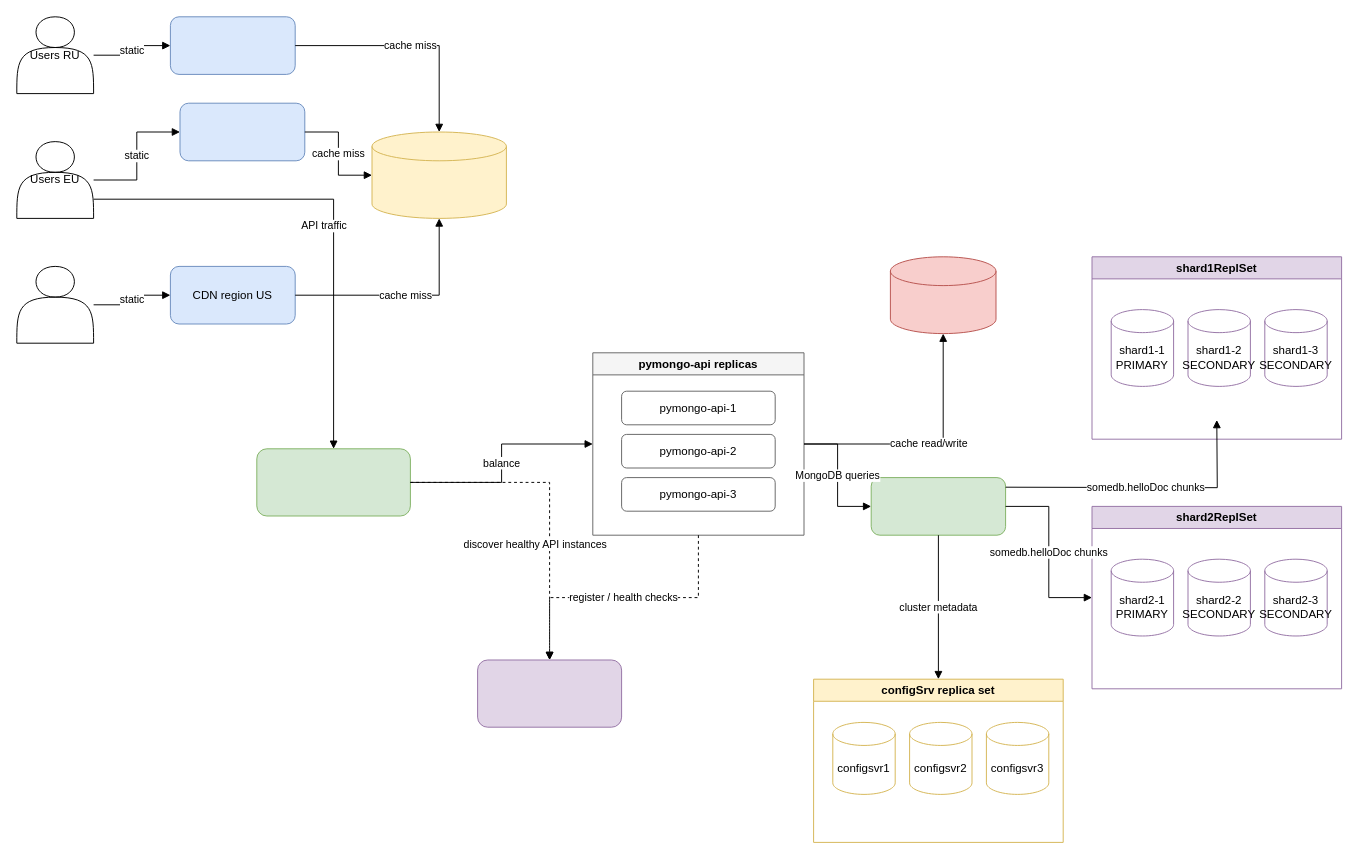
The diagram is 1358 pixels wide and 859 high, and some of its shapes have lost their labels. Here are the shapes that lost their labels. From the top down, the centre of each, then its label:
[232,45]: CDN region RU
[242,131]: CDN region EU
[438,174]: Static origin / object storage
[55,304]: Users US
[942,295]: Redis cache
[333,482]: API Gateway / Load Balancer
[938,506]: mongos router
[549,693]: Consul Service Discovery
